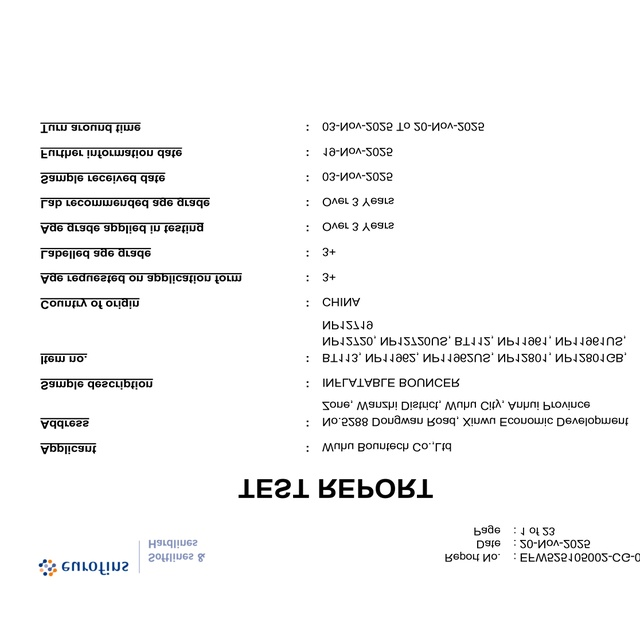eurofins: (27, 551, 132, 585)
